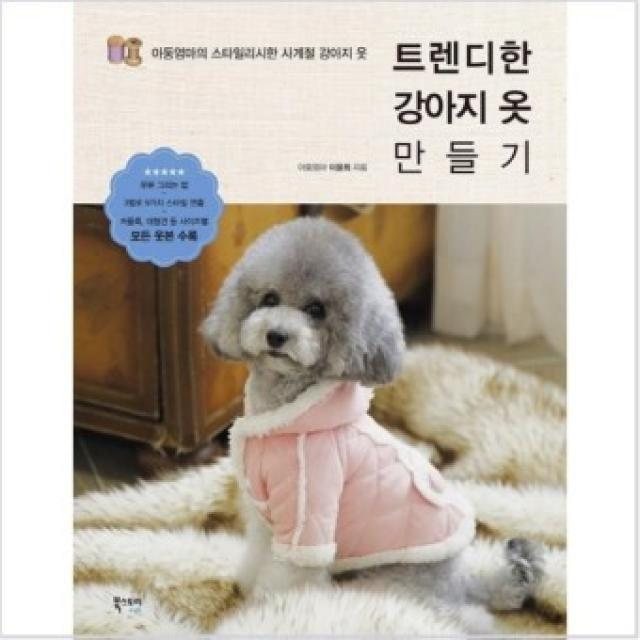cloth: (231, 380, 474, 572)
